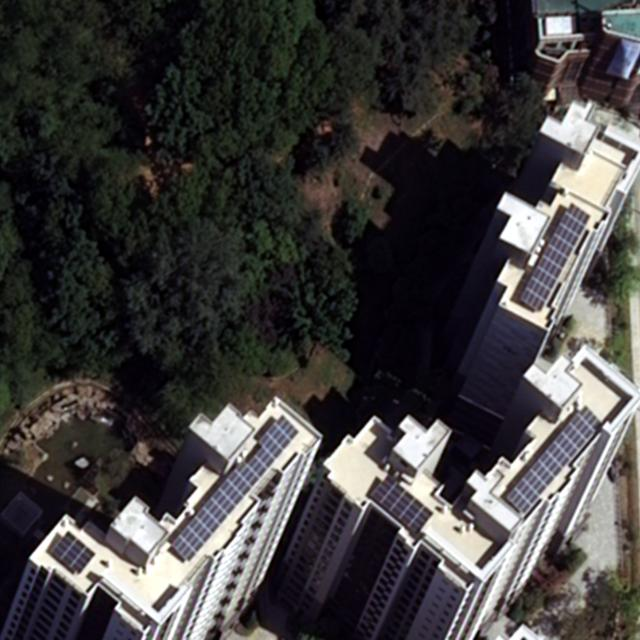panel: (165, 414, 299, 563), (503, 405, 606, 516), (516, 201, 592, 313), (368, 472, 436, 538), (51, 530, 94, 575)
